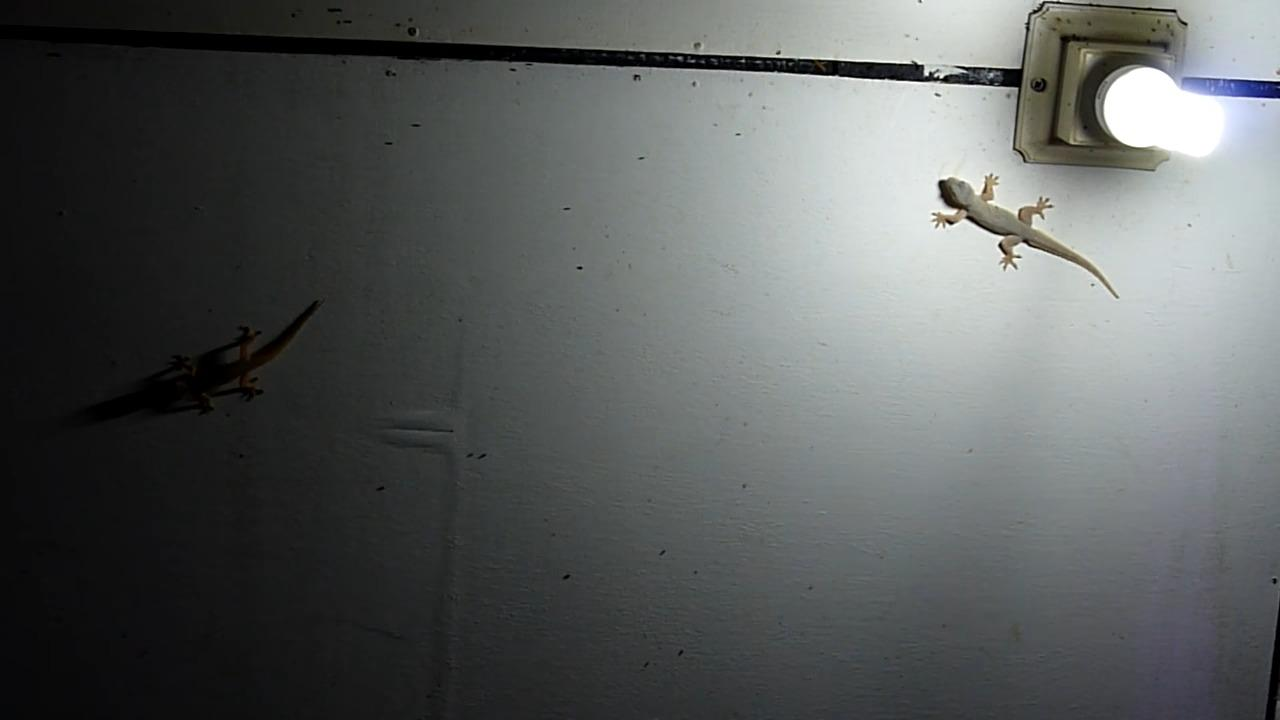lizard: (924, 169, 1138, 307), (142, 285, 344, 429)
